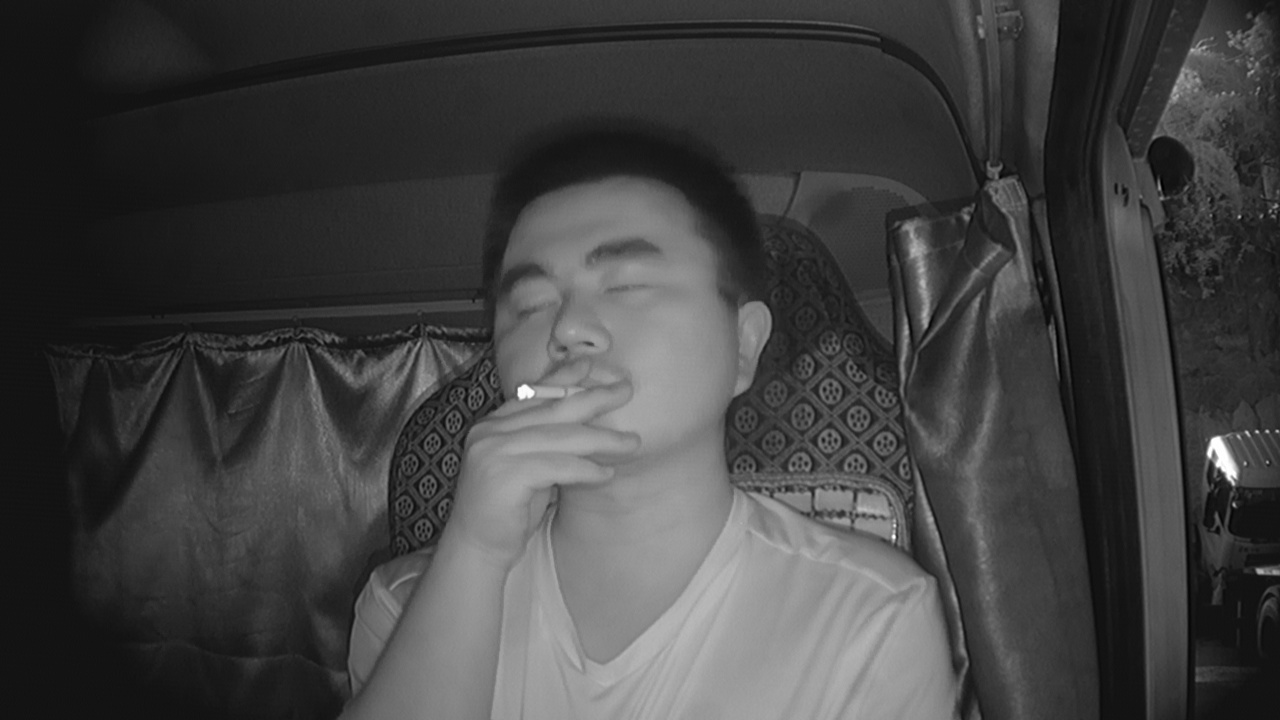hand: (469, 363, 651, 529)
